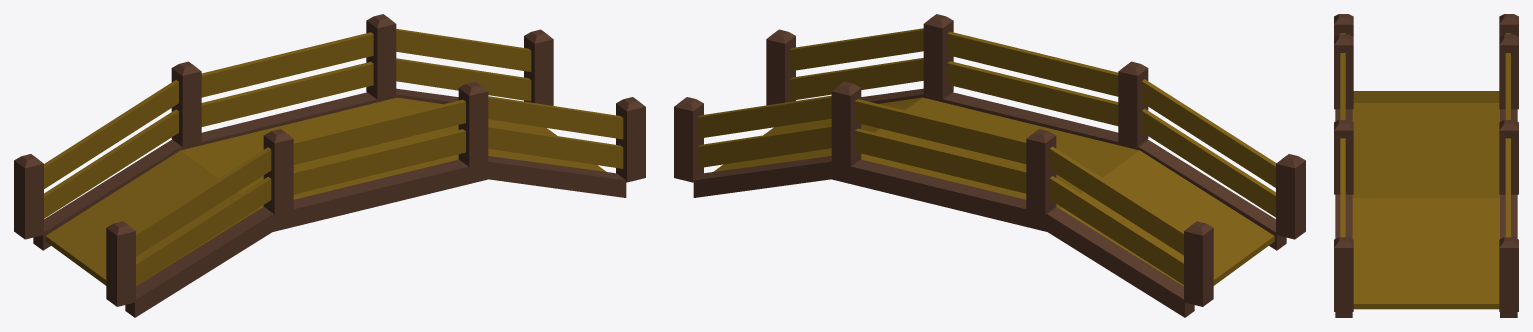
File: bridge.fbx
3 renders of one model, left to right at view 1: azimuth 30°, elevation 25°; view 2: azimuth 150°, elevation 25°; view 3: azimuth 270°, elevation 25°, orthographic. The views are drawn at different scales.
Parts seen in each view (by area): view 1: Cube.014; view 2: Cube.014; view 3: Cube.014.
Part boxes in pixels (left/top/right/bottom): Cube.014: left=14, top=14, right=645, bottom=317; Cube.014: left=674, top=14, right=1305, bottom=317; Cube.014: left=1334, top=14, right=1518, bottom=317.
Size of the model in its own units: 200 by 52.75 by 67.38.
